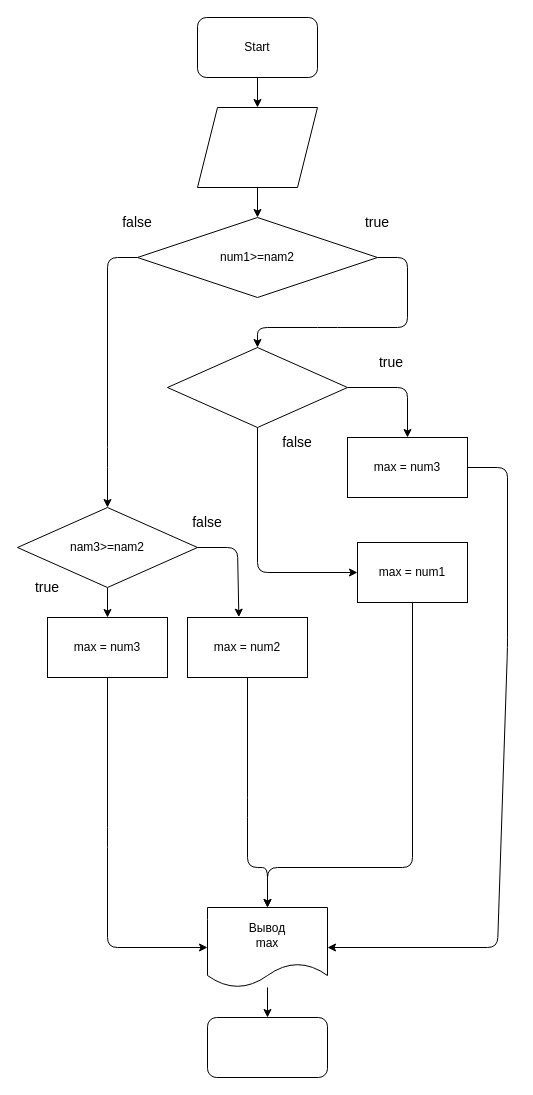
The diagram is 533 pixels wide and 1095 high, and some of its shapes have lost their labels. Here are the shapes that lost their labels. From the top down, the centre of each, then its label:
point (257, 147): Вводим num1 num2 num3
point (257, 387): nam3>=nam1
point (267, 1047): End
